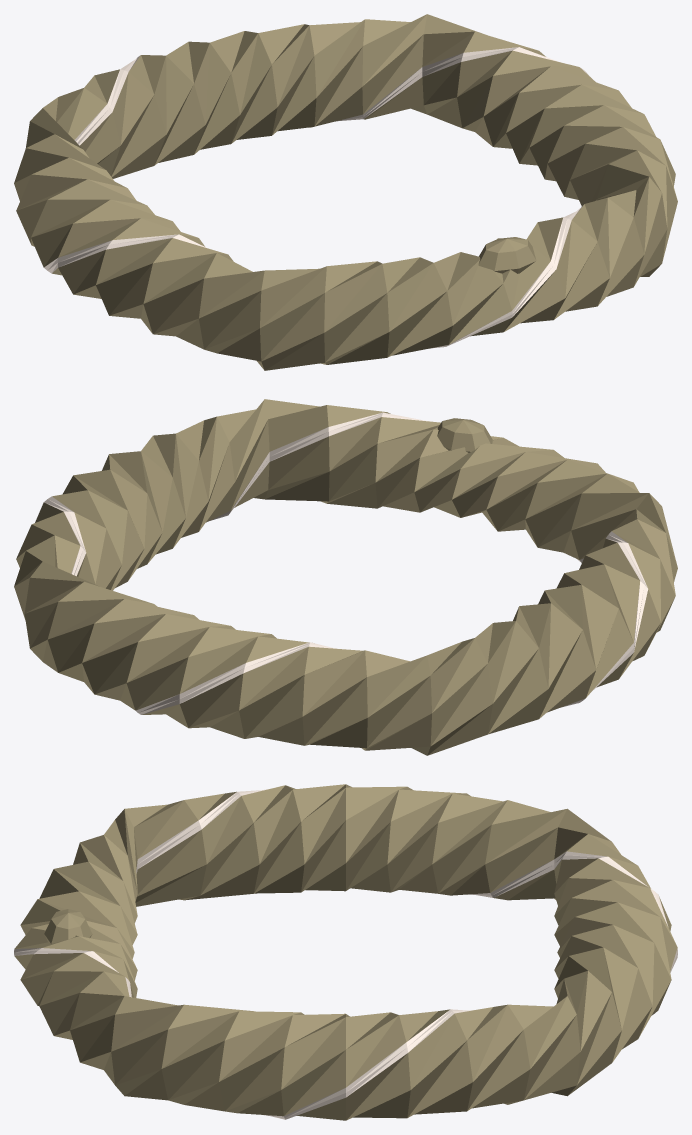
The model's file is careerRing.glb.
3 renders of one model, top to bottom at view 1: azimuth 30°, elevation 25°; view 2: azimuth 150°, elevation 25°; view 3: azimuth 270°, elevation 25°, orthographic.
Parts seen in each view (by area): view 1: careerRing; view 2: careerRing; view 3: careerRing.
Boxes of the visible parts, bbox=[...] form: careerRing: bbox=[14, 14, 677, 370]; careerRing: bbox=[14, 399, 677, 755]; careerRing: bbox=[14, 784, 677, 1120].
Bounding box in the file's own units: 0.66 × 0.11 × 0.66.
1 material, 1 textured.
